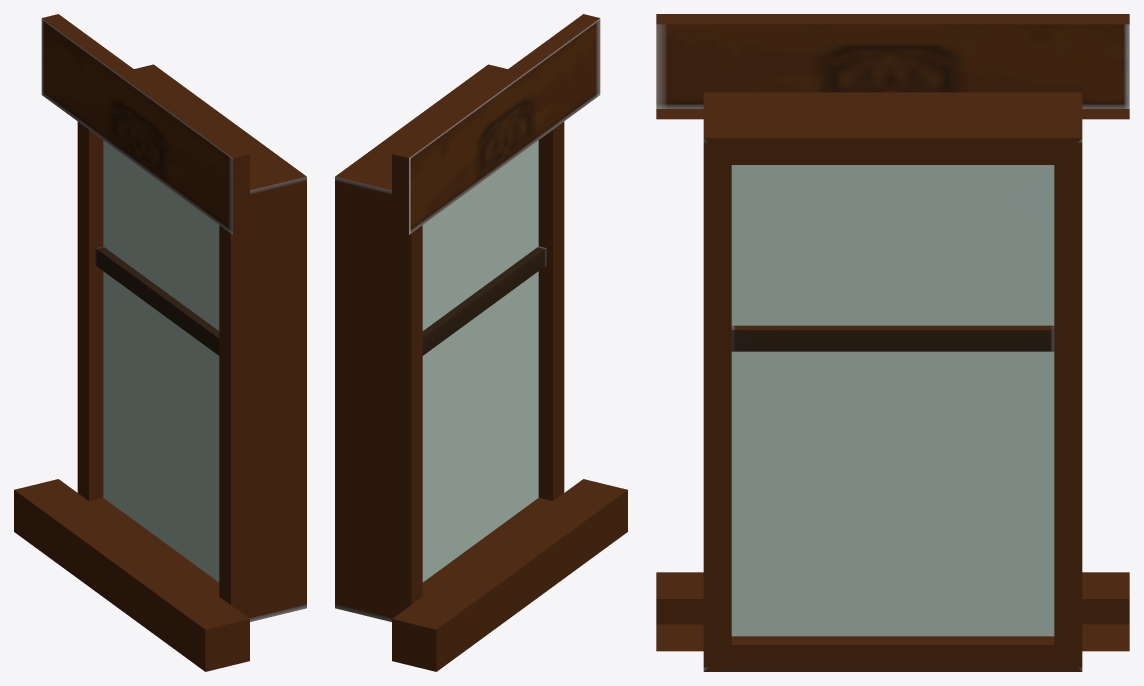
The model's file is Window_01.fbx.
3 renders of one model, left to right at view 1: azimuth 30°, elevation 25°; view 2: azimuth 150°, elevation 25°; view 3: azimuth 270°, elevation 25°, orthographic. The views are drawn at different scales.
Visible parts, largest first — view 1: Window_01; view 2: Window_01; view 3: Window_01.
Part boxes in pixels (x1,y1,x2,y2): Window_01: (14,14,306,671); Window_01: (335,14,627,671); Window_01: (656,14,1129,671).
Size of the model in its own units: 79.2 by 319 by 218.
